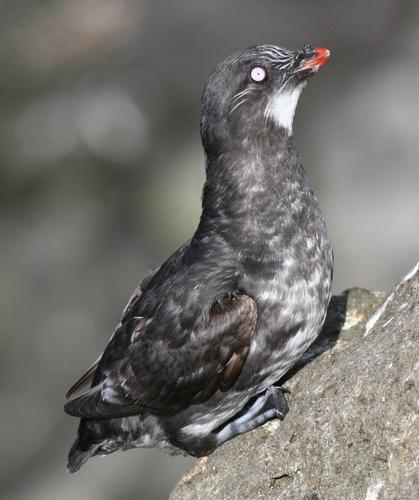006.Least_Auklet: (63, 43, 334, 474)
